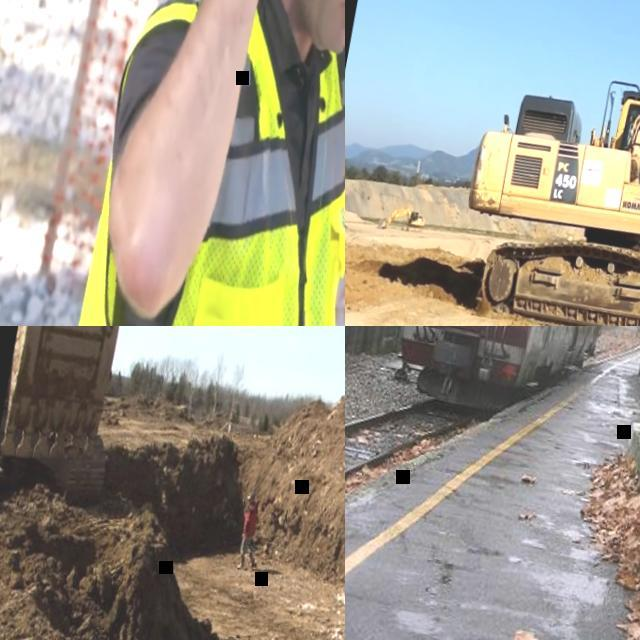helmet: (247, 492, 254, 500)
vest: (67, 0, 345, 326)
